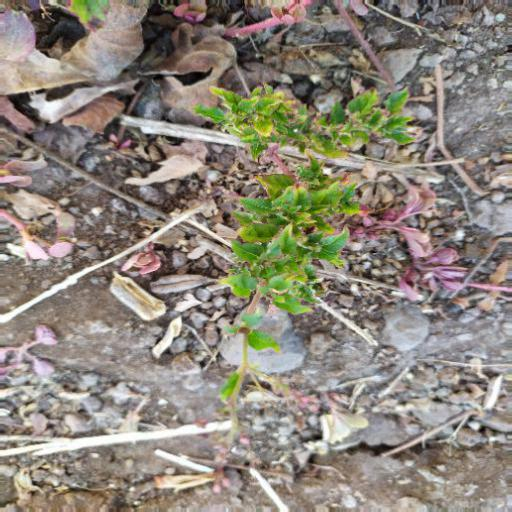weed: (190, 74, 419, 429)
